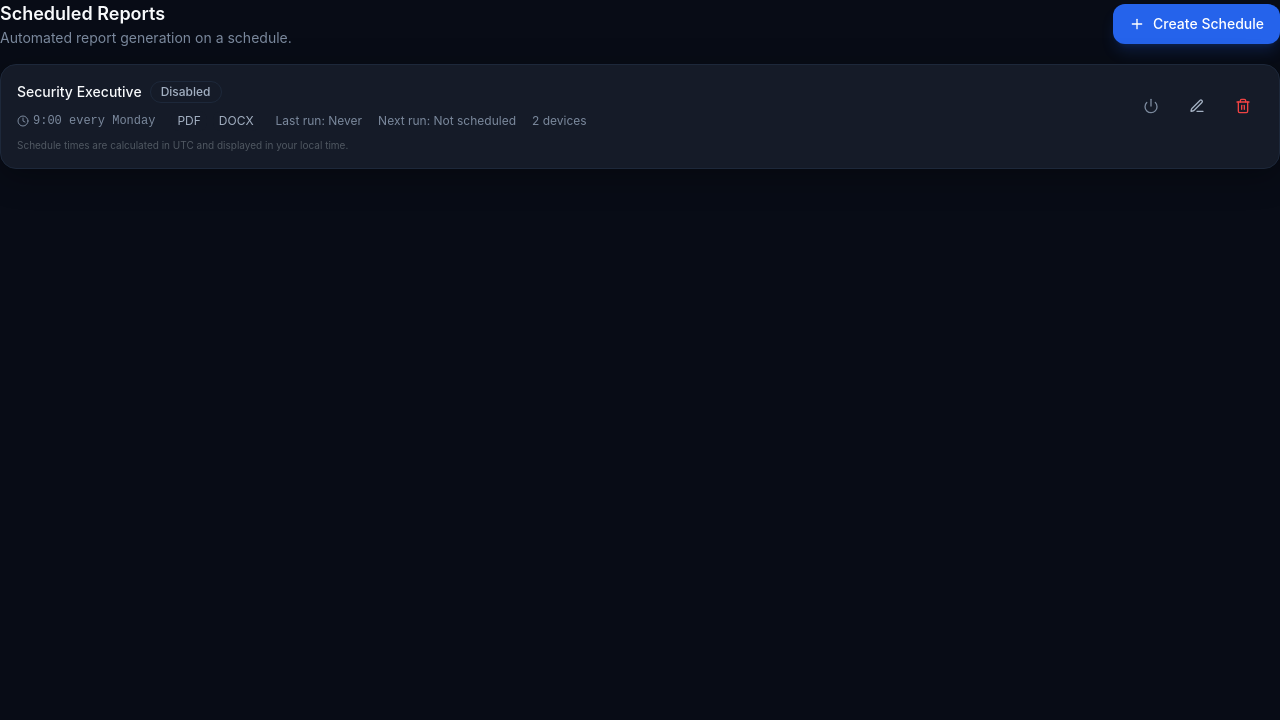
ScheduledReportsSection › Edit Schedule › Successful update closes the dialog
Click the button named "edit schedule": point(1197, 106) [1177,88,1217,124]
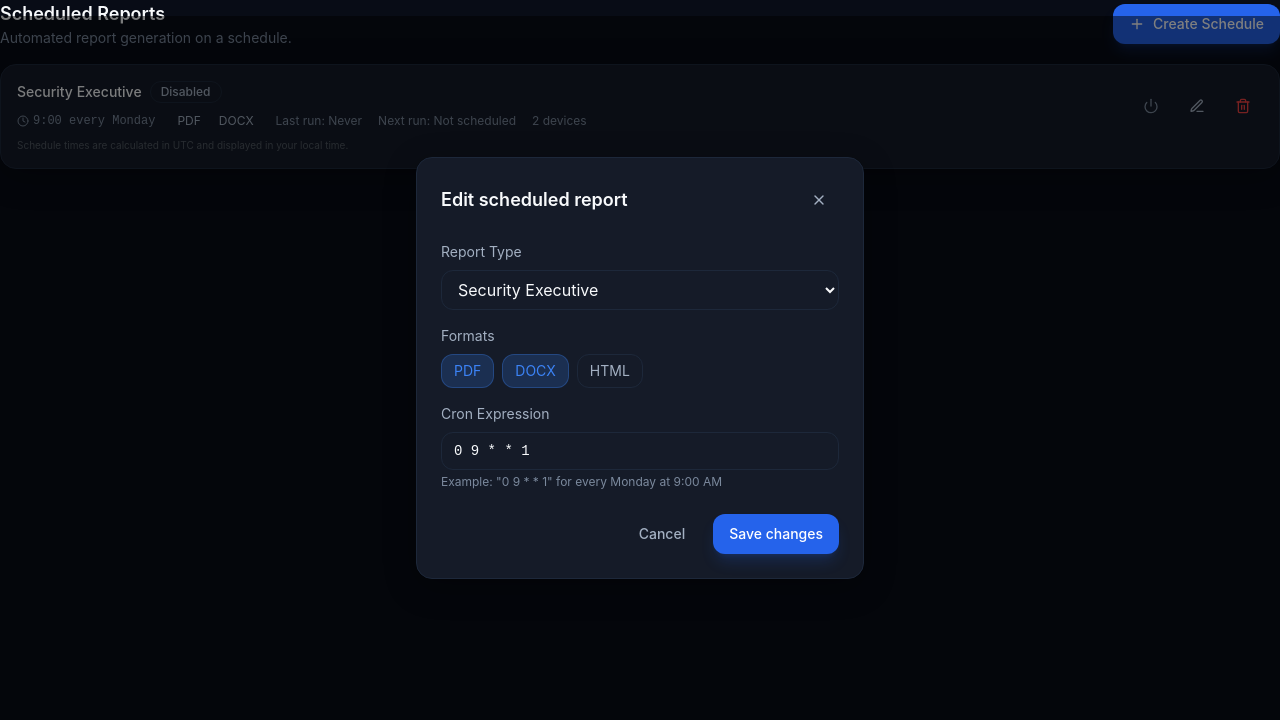
Click the button "Save changes": point(776, 534) [713,514,839,554]
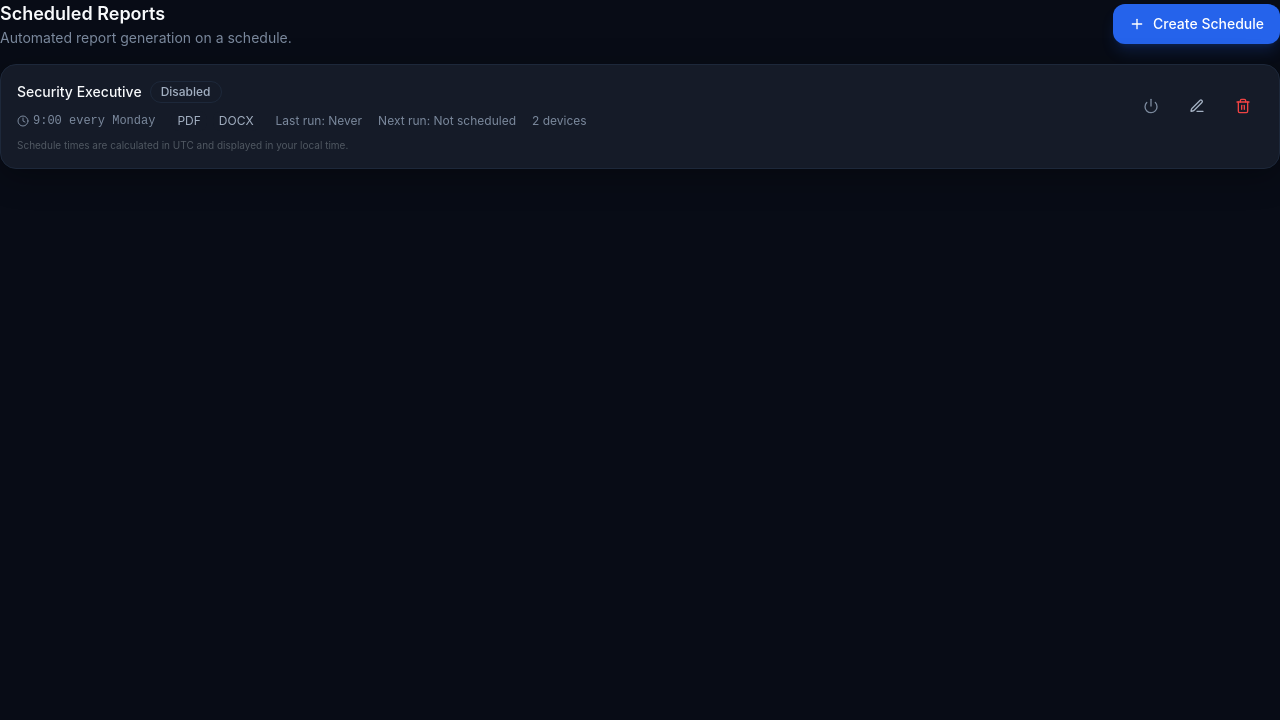
Check: the dialog is gone
